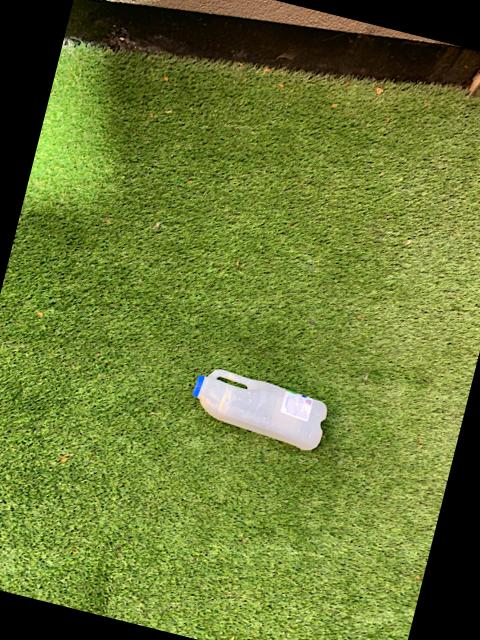plastic: (191, 366, 325, 446)
